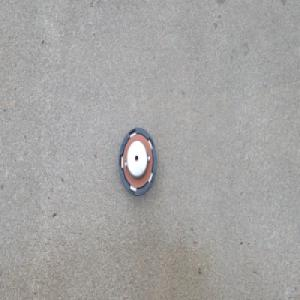FuelCap: (116, 125, 157, 200)
